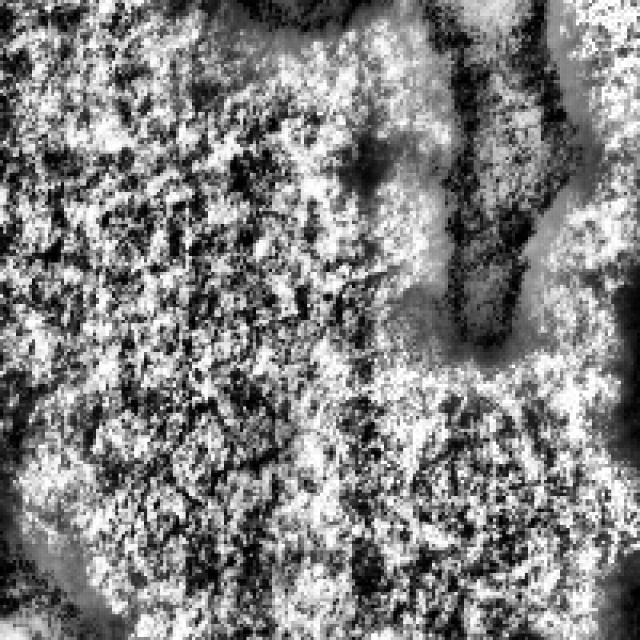Scratches: (407, 0, 586, 352), (0, 509, 102, 637)
